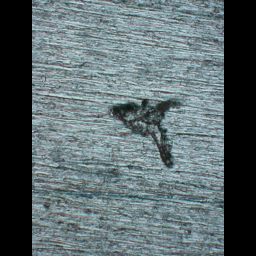d: (107, 94, 186, 170)
